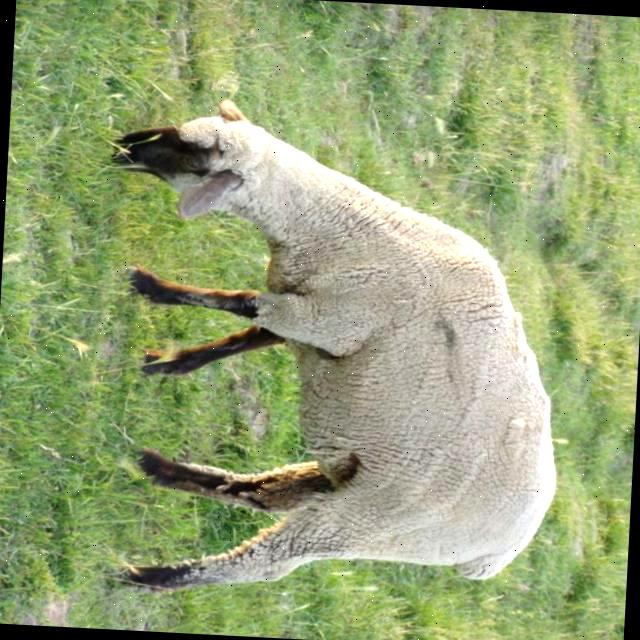sheep: (115, 112, 552, 587)
